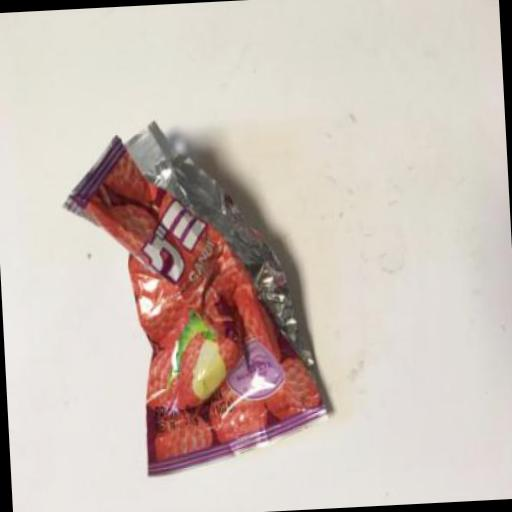plastic: (56, 110, 330, 480)
